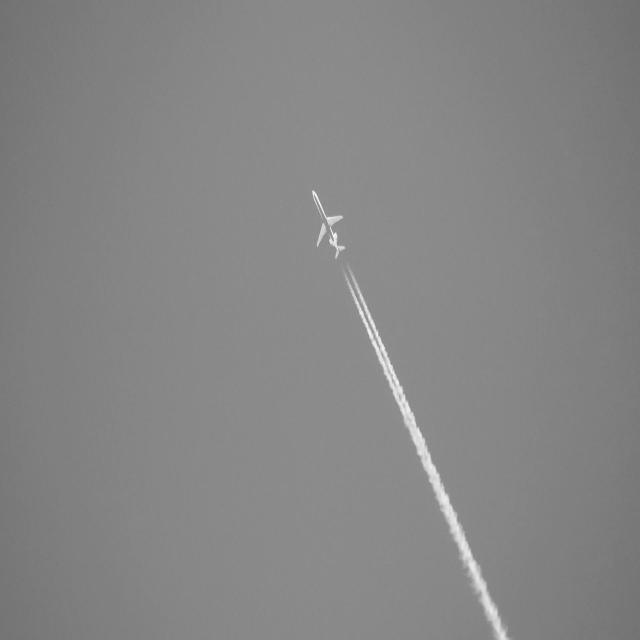aeroplane: (311, 188, 348, 266)
